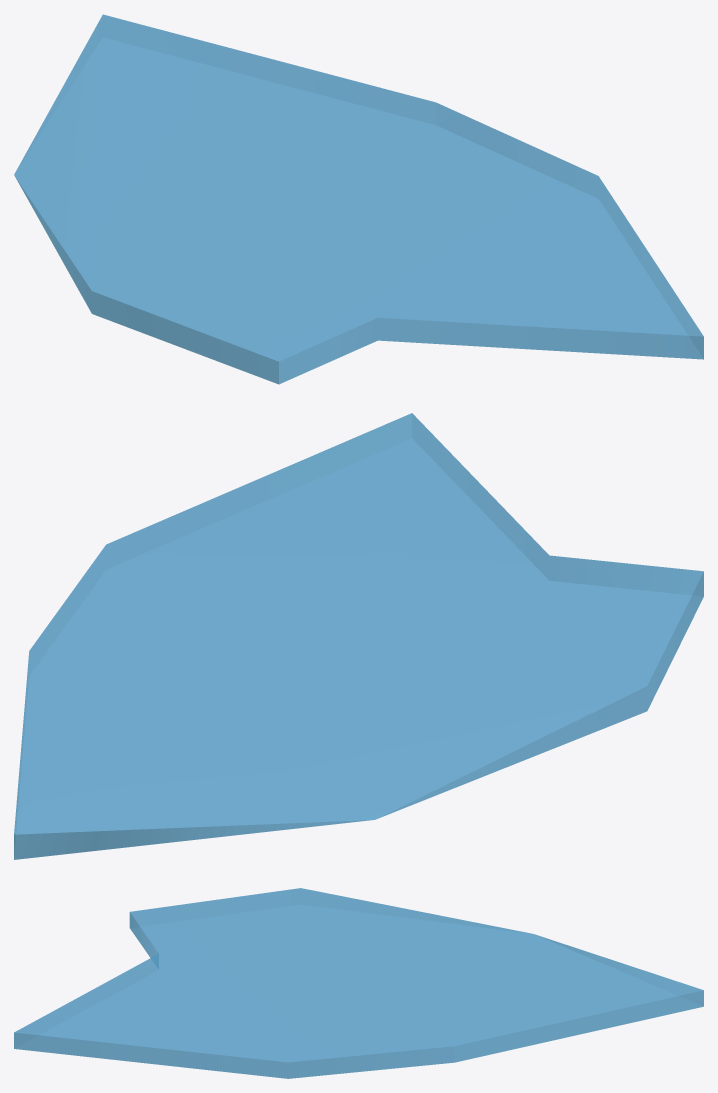
The model's file is Shard_1.fbx.
3 renders of one model, top to bottom at view 1: azimuth 30°, elevation 25°; view 2: azimuth 150°, elevation 25°; view 3: azimuth 270°, elevation 25°, orthographic. The views are drawn at different scales.
Visible parts, largest first — view 1: Shard_1; view 2: Shard_1; view 3: Shard_1.
Boxes of the visible parts, x1,y1,x2,y2 form: Shard_1: (14,14,703,384); Shard_1: (14,413,703,859); Shard_1: (14,888,703,1078).
Bounding box in the file's own units: 46.66 × 2.05 × 77.99.
